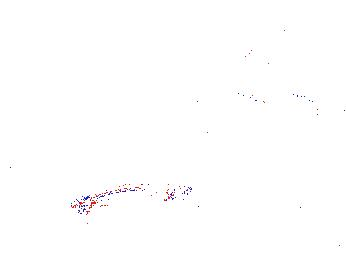glassfish: (82, 178, 196, 214), (234, 88, 333, 121)
redtail glassfish: (240, 15, 309, 59)
